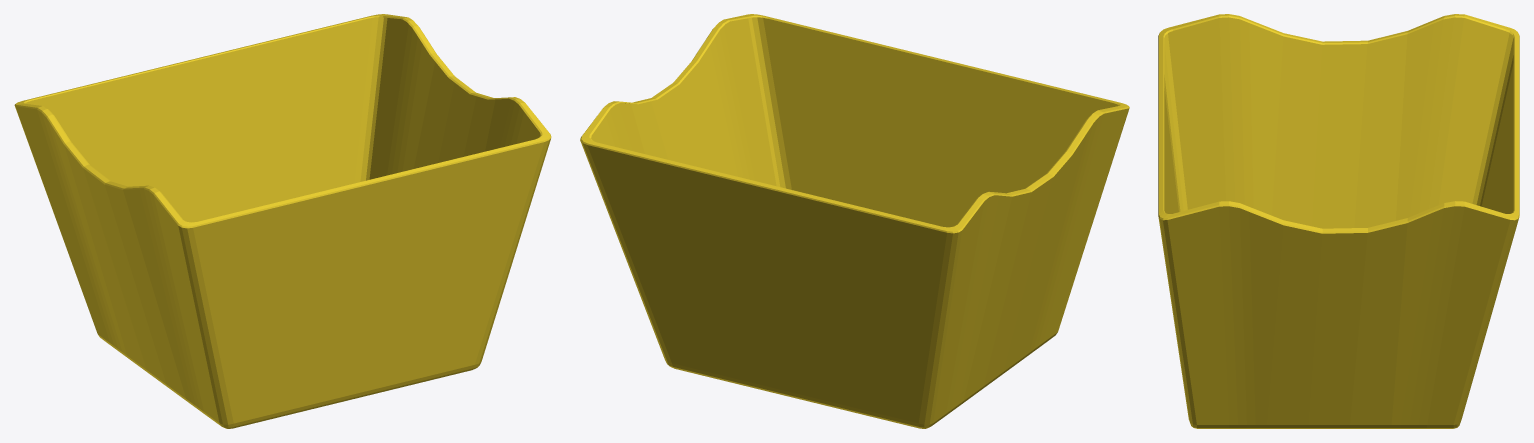
Rendered from potato_stack_revize.fbx.
3 renders of one model, left to right at view 1: azimuth 30°, elevation 25°; view 2: azimuth 150°, elevation 25°; view 3: azimuth 270°, elevation 25°, orthographic. The views are drawn at different scales.
Parts seen in each view (by area): view 1: potato.001; view 2: potato.001; view 3: potato.001.
Part boxes in pixels (x1,y1,x2,y2): potato.001: (14, 14, 551, 428); potato.001: (580, 14, 1129, 428); potato.001: (1158, 14, 1519, 428).
Size of the model in its own units: 198 by 124 by 158.
